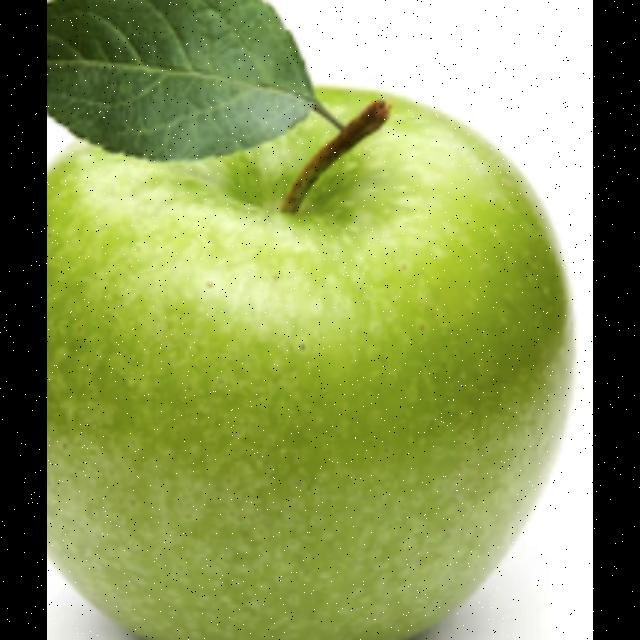Apel Segar: (48, 75, 586, 640)
